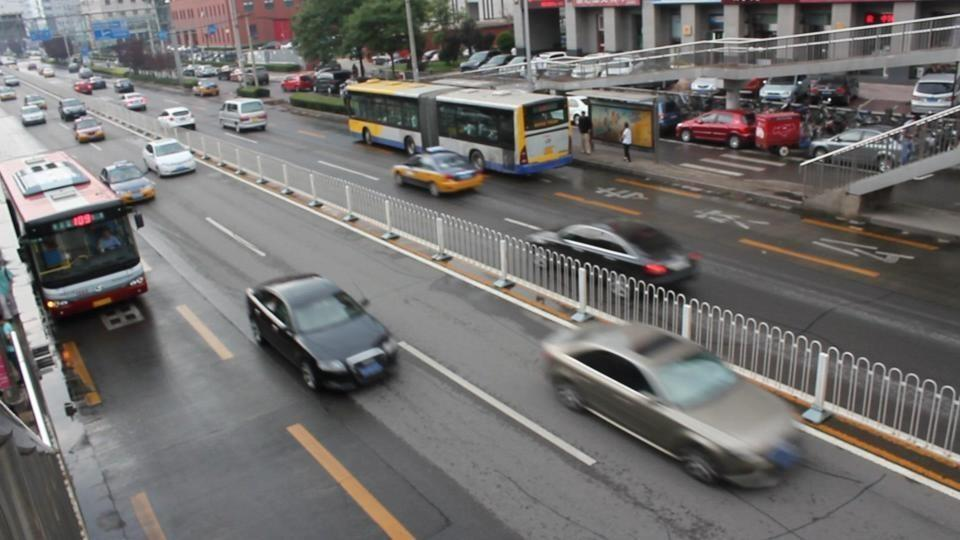car: (540, 316, 800, 490), (245, 273, 399, 393), (543, 217, 699, 289), (391, 148, 484, 197), (809, 127, 901, 166), (675, 109, 758, 149), (100, 160, 158, 209), (910, 64, 960, 115), (143, 137, 197, 178), (751, 74, 810, 110), (791, 75, 852, 107), (218, 98, 269, 134), (458, 50, 525, 74), (531, 51, 583, 79), (72, 116, 107, 143), (19, 97, 48, 127), (281, 72, 318, 92), (58, 97, 86, 122)
